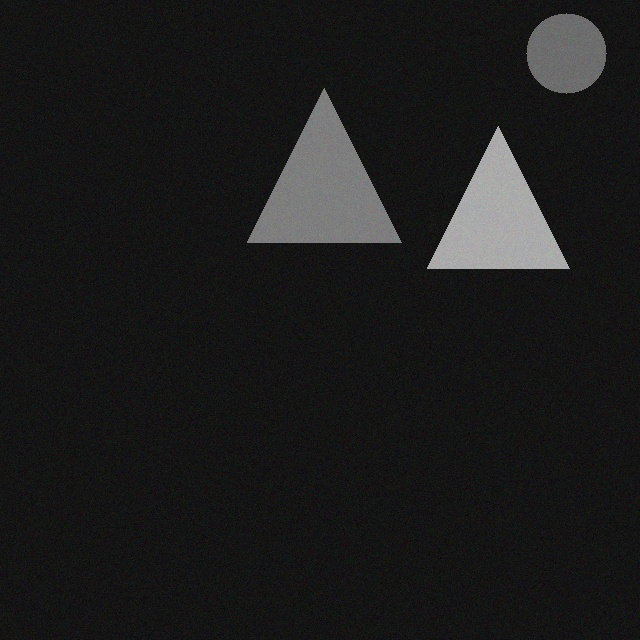circle: (515, 16, 595, 96)
triangle: (236, 91, 390, 245), (416, 129, 558, 271)
